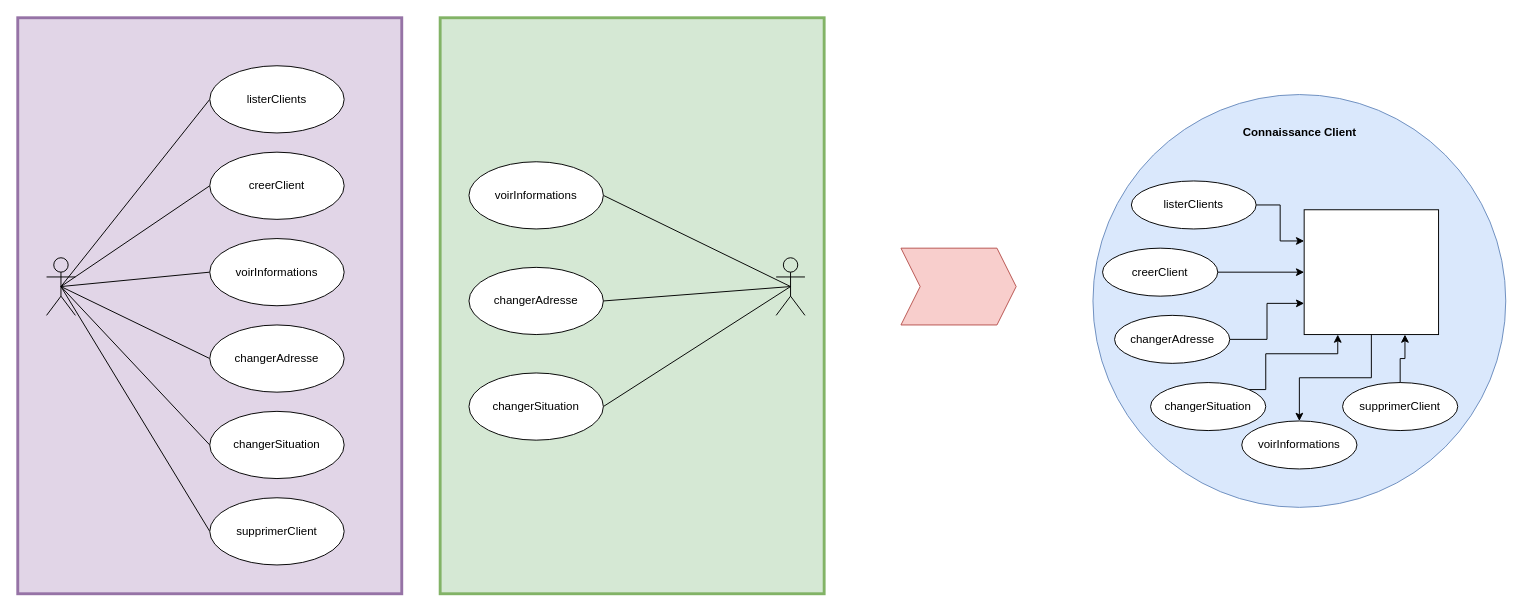
This 1523x612 diagram has some shape labels left out. Each missing label, with the box of its shape:
Agence: (16, 16, 403, 595)
Agent: (46, 257, 75, 315)
Client: (775, 257, 805, 315)
Internet: (438, 16, 825, 595)
nom prenom dateNaissance adresse situation nombreEnfants: (1303, 209, 1439, 335)
